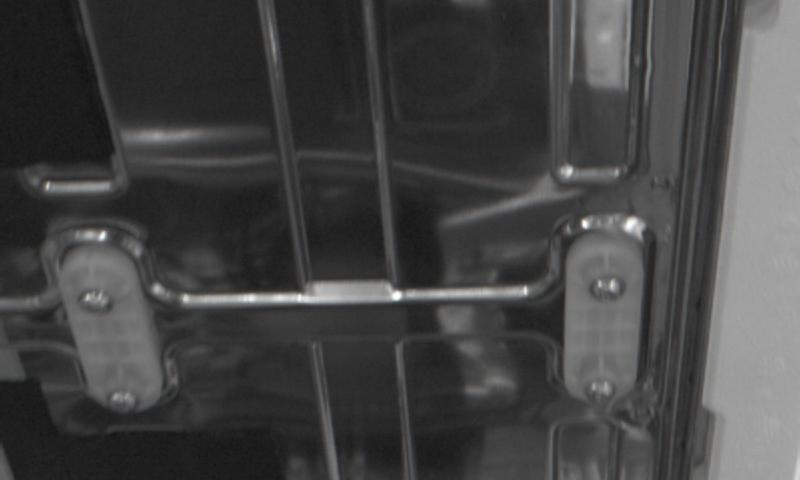vida-ok: (584, 268, 631, 312), (73, 279, 119, 323), (102, 382, 148, 422), (576, 372, 622, 411)
